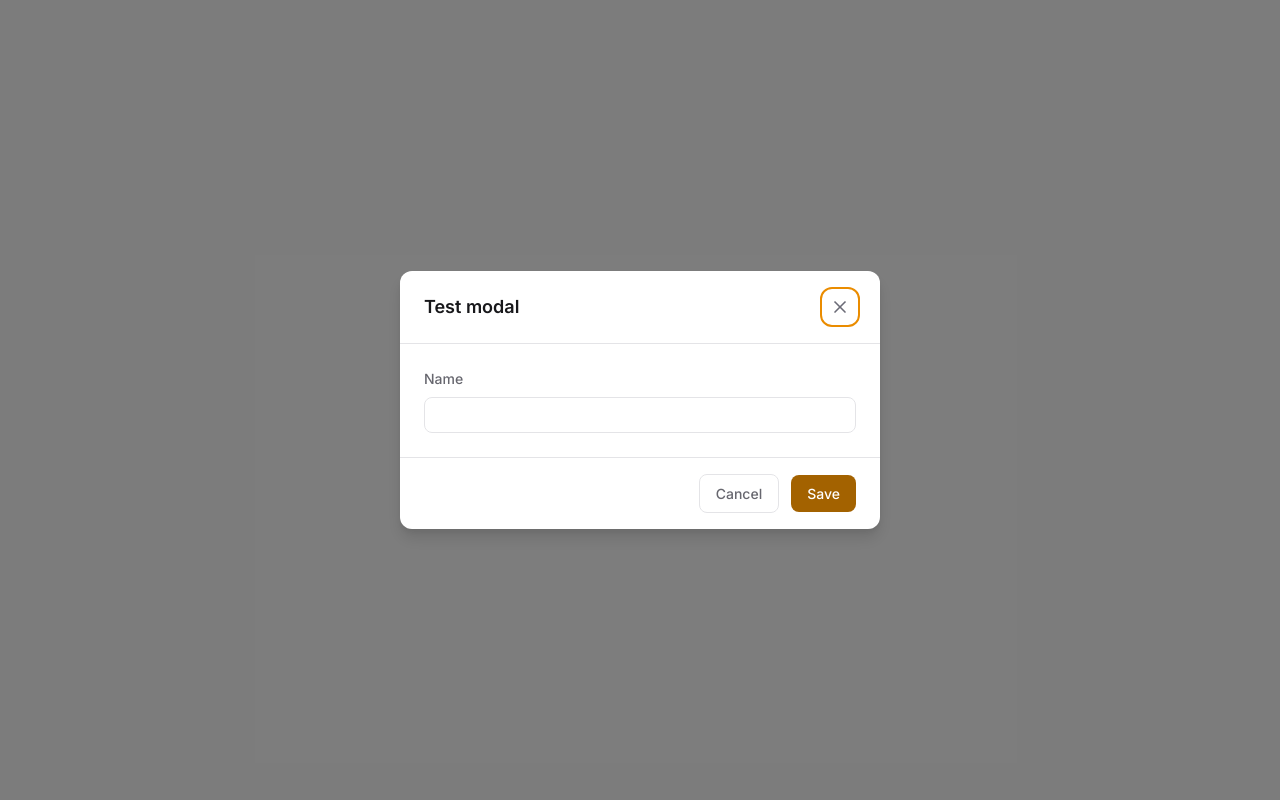
Scenario: EntityModal › should render the error banner when the action returns an error
The width and height of the screenshot is (1280, 800).
Click the button "Save" at (824, 494), box [791,475,856,512]
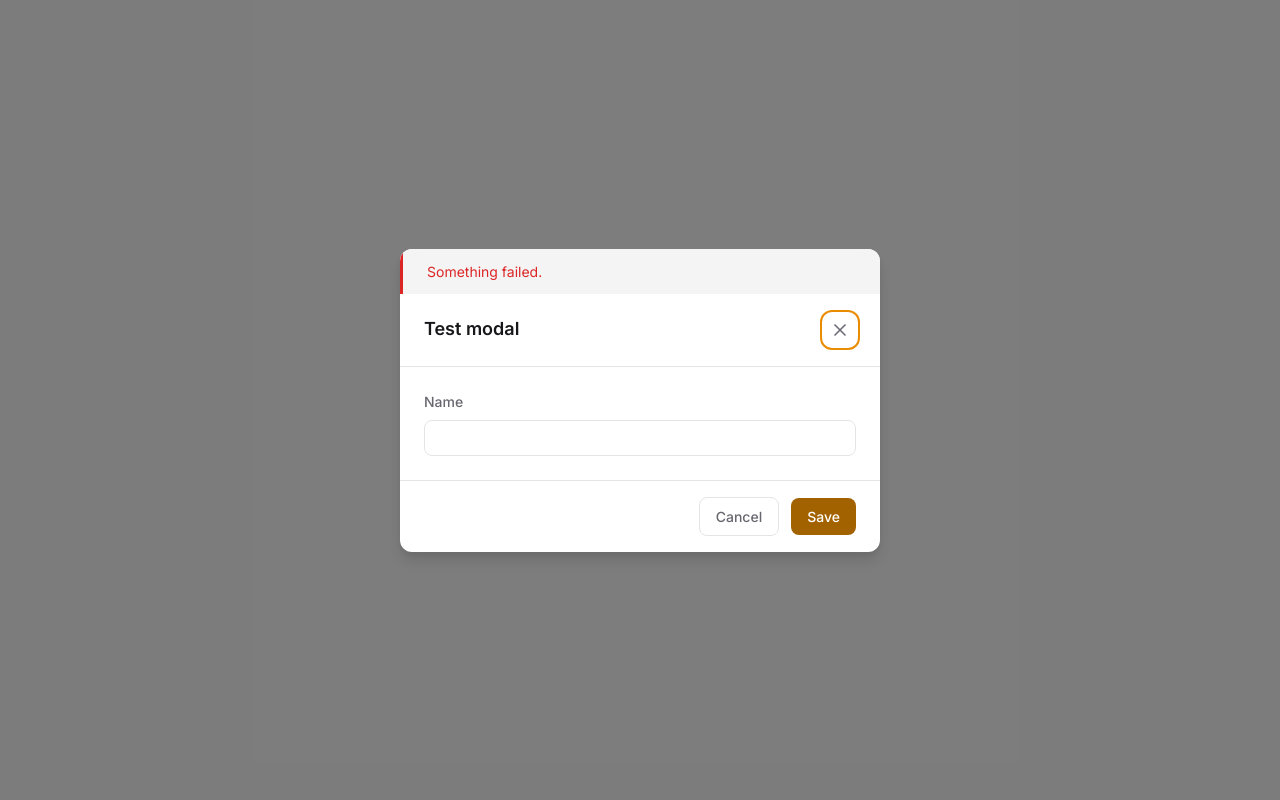
expect the message reads "Something failed.": met, box [427,262,542,280]
